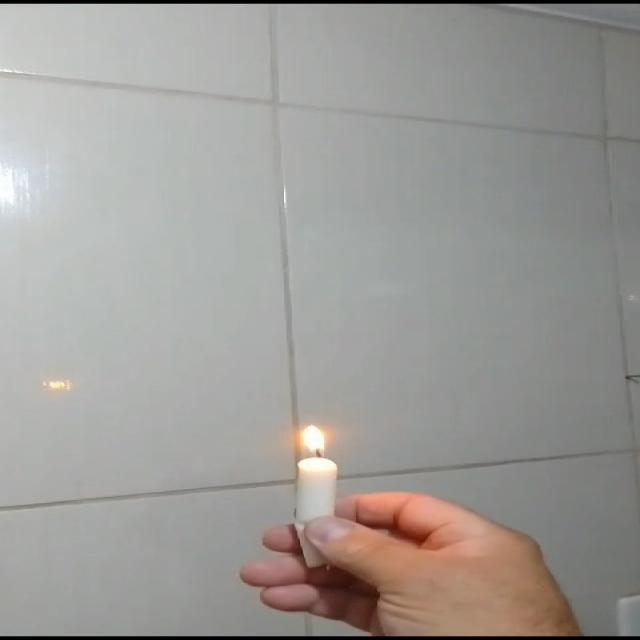fogo-ypXI: (298, 422, 334, 459)
